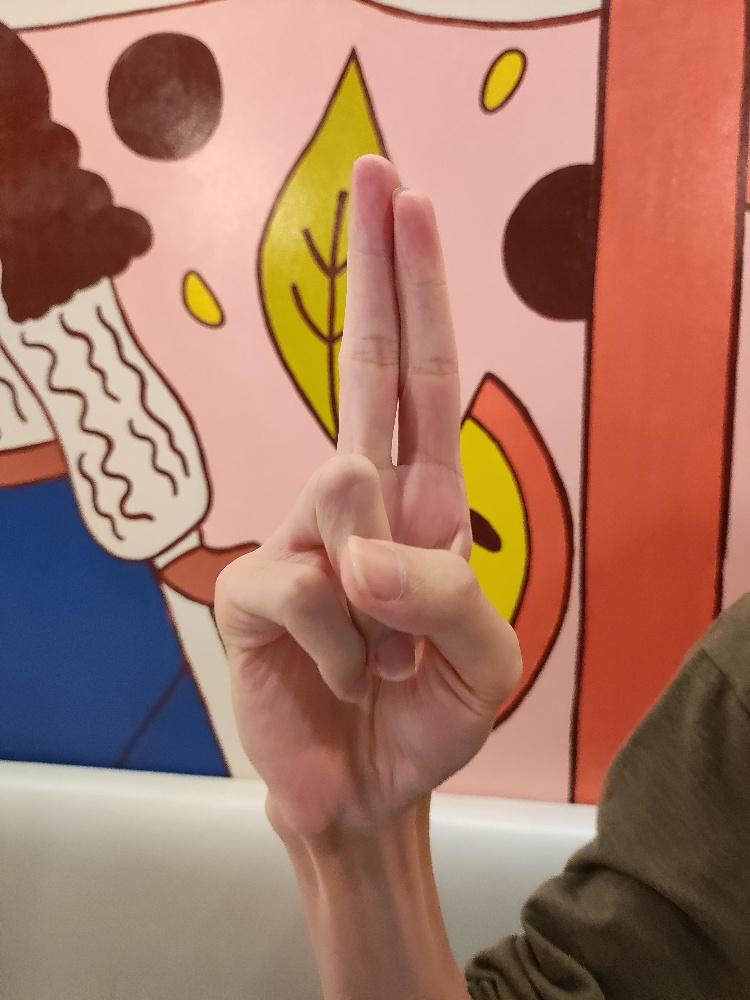u: (210, 149, 525, 834)
